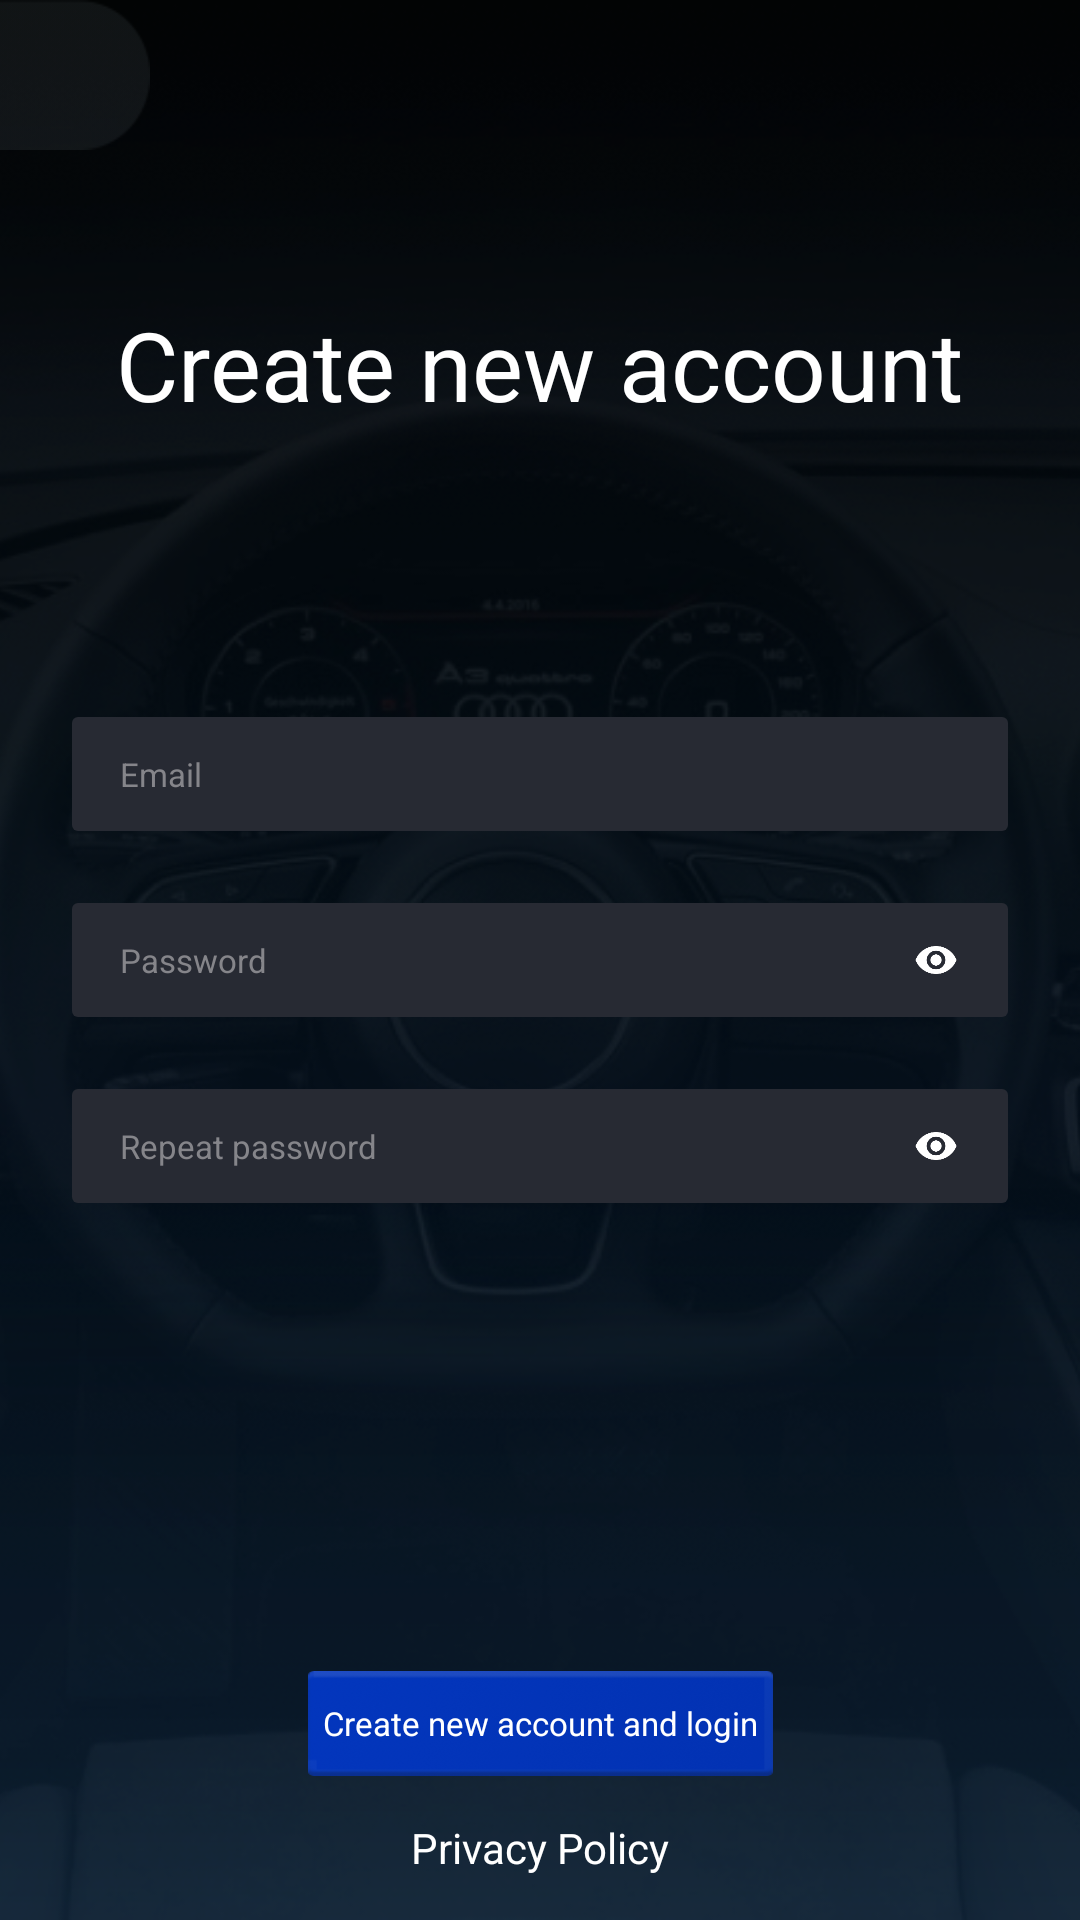

Icons on this 1080px x 1920px Android screen, each with the point to tap as (x,y):
visibility: (936,960), (936,1146)
